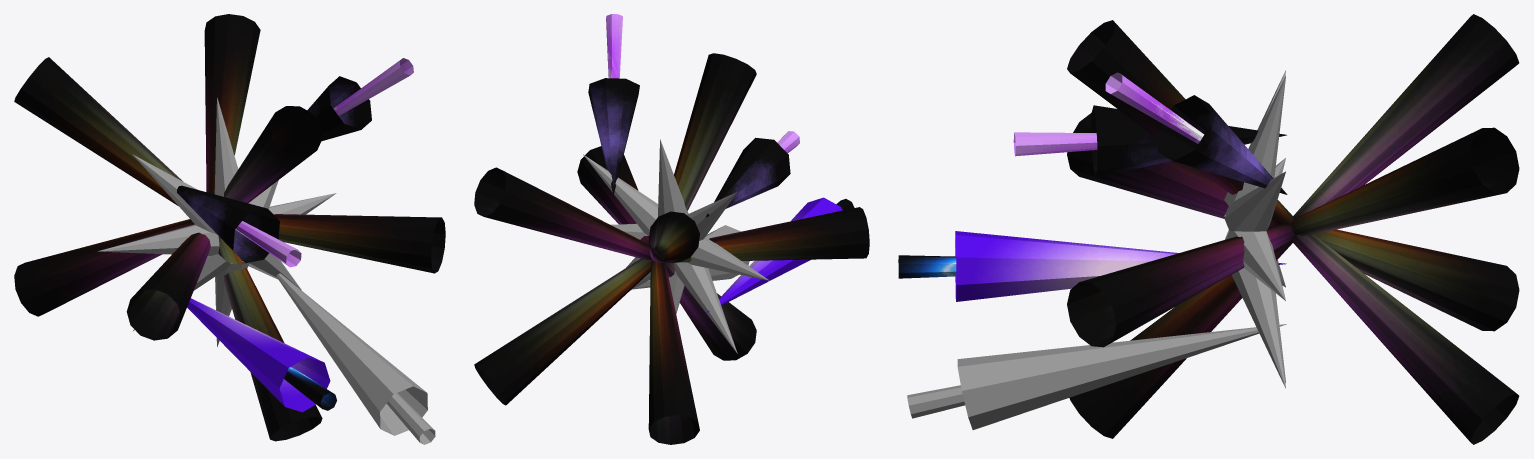
The model's file is tx_wutai2.obj.
The picture shows the model from 3 angles, left to right: view 1: azimuth 30°, elevation 25°; view 2: azimuth 150°, elevation 25°; view 3: azimuth 270°, elevation 25°; orthographic projection. The views are drawn at different scales.
Visible parts, largest first — view 1: Cylinder12, Cylinder10, Cylinder02, Cylinder07, Cylinder09, Cylinder06, Cylinder04, Cylinder03, Cylinder05, Cylinder11, Cylinder16, Cylinder01 (+7 smaller); view 2: Cylinder08, Cylinder06, Cylinder09, Cylinder03, Cylinder04, Cylinder10, Cylinder12, Cylinder05, Cylinder07, Cylinder02, Cylinder22, Cylinder21 (+4 smaller); view 3: Cylinder12, Cylinder10, Cylinder08, Cylinder07, Cylinder06, Cylinder02, Cylinder09, Cylinder05, Cylinder04, Cylinder03, Cylinder11, Cylinder18 (+5 smaller).
Part boxes in pixels (x1,y1,x2,y2): Cylinder12: (177,185,427,435); Cylinder10: (187,76,371,412); Cylinder02: (274,214,445,273); Cylinder07: (14,57,183,205); Cylinder09: (14,219,194,316); Cylinder06: (204,14,260,194); Cylinder04: (224,106,322,203); Cylinder03: (126,232,210,340); Cylinder05: (218,236,322,441); Cylinder11: (235,221,435,444); Cylinder16: (98,224,219,255); Cylinder01: (333,58,413,115); Cylinder08: (474,258,651,405); Cylinder06: (474,167,659,259); Cylinder09: (648,253,699,444); Cylinder03: (660,207,869,262); Cylinder04: (657,53,756,253); Cylinder10: (588,78,842,313); Cylinder12: (633,137,790,289); Cylinder05: (665,262,756,360); Cylinder07: (648,211,699,262); Cylinder02: (577,146,649,243); Cylinder22: (673,262,737,353); Cylinder21: (583,154,658,235); Cylinder12: (957,105,1286,429); Cylinder10: (955,95,1287,301); Cylinder08: (1292,234,1519,444); Cylinder07: (1293,14,1519,218); Cylinder06: (1291,127,1519,235); Cylinder02: (1067,224,1294,347); Cylinder09: (1314,229,1519,331); Cylinder05: (1069,241,1292,438); Cylinder04: (1067,20,1294,225); Cylinder03: (1067,113,1272,226); Cylinder11: (907,132,1097,418); Cylinder18: (1232,268,1285,388).
Size of the model in its own units: 420 by 442 by 577.
6 materials, 6 textured.
